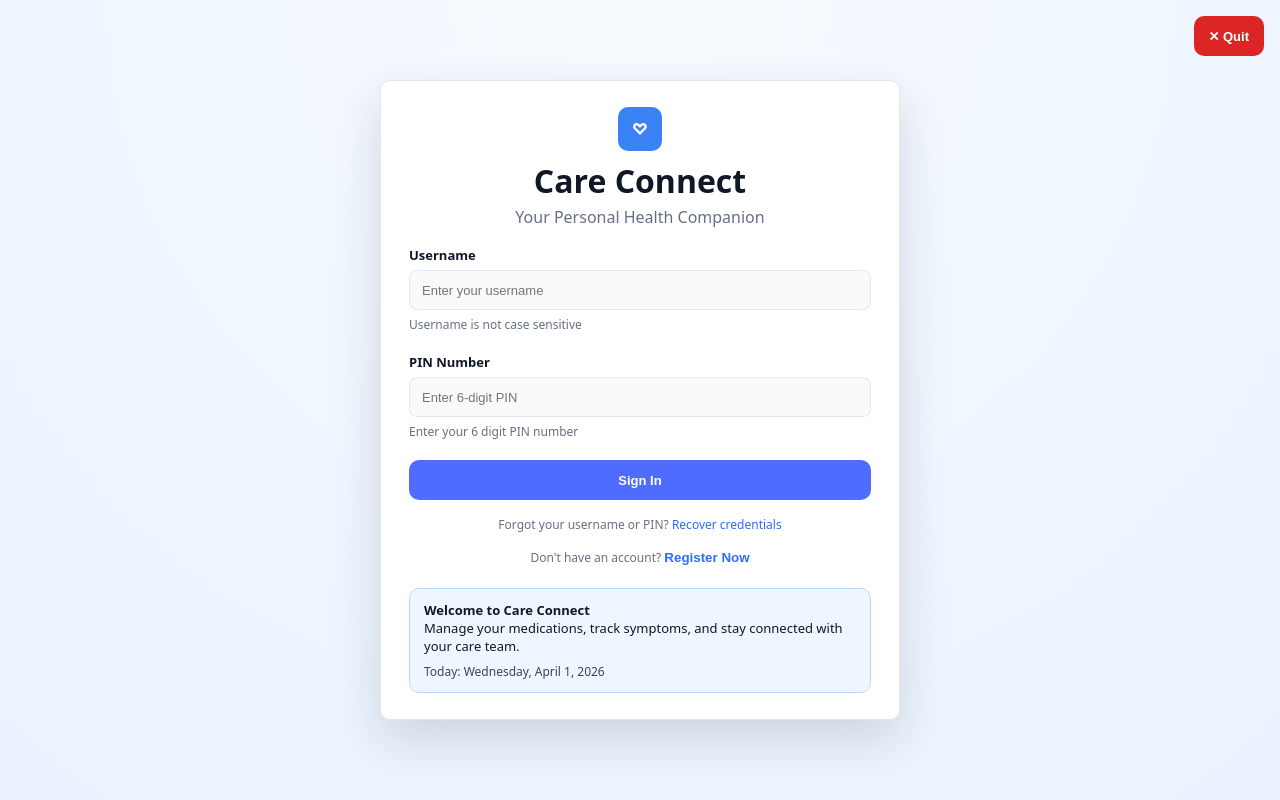
Login Screen - Comprehensive Tests › Validation - Error Cases › shows error for PIN more than 6 digits
Type "testuser" into the field with placeholder "Enter your username" at (640, 290), box left=409, top=270, right=871, bottom=310
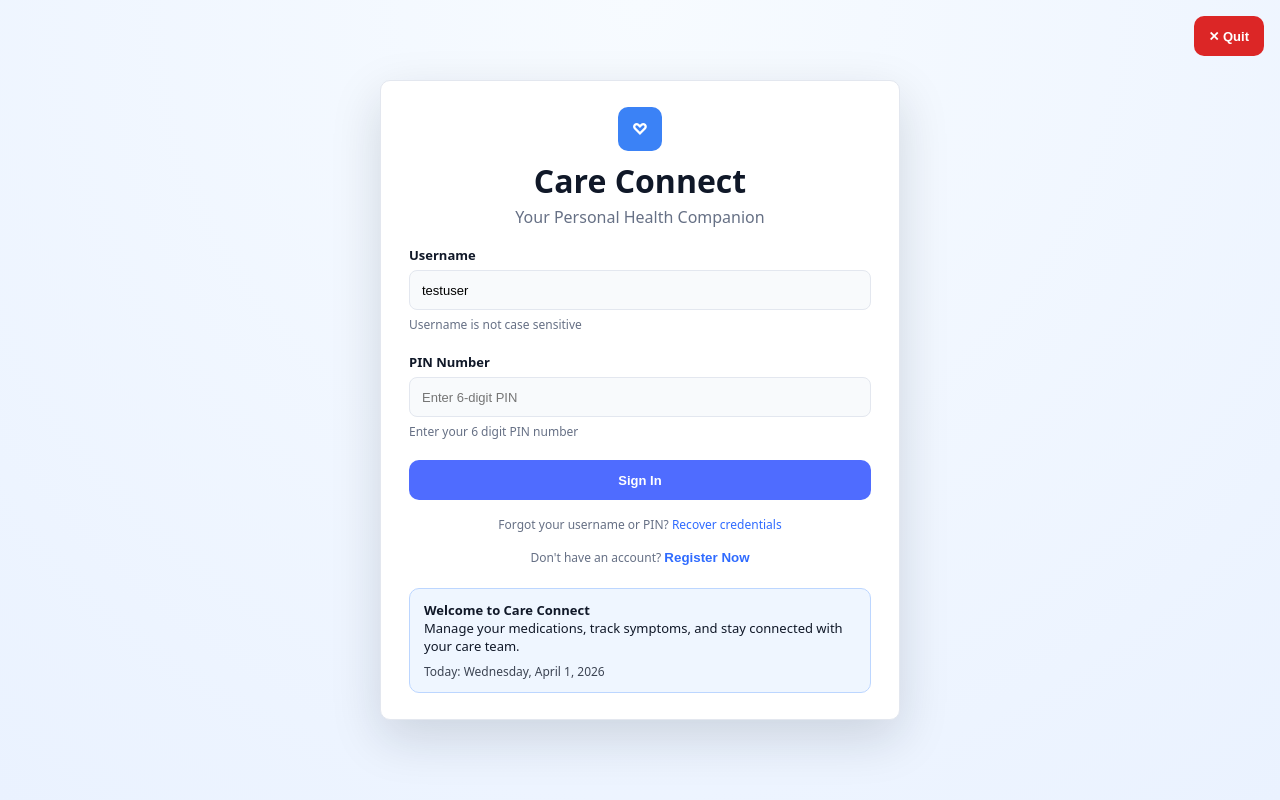
Type "1234567" into the password field with placeholder "Enter 6-digit PIN" at (640, 397), box left=409, top=377, right=871, bottom=417
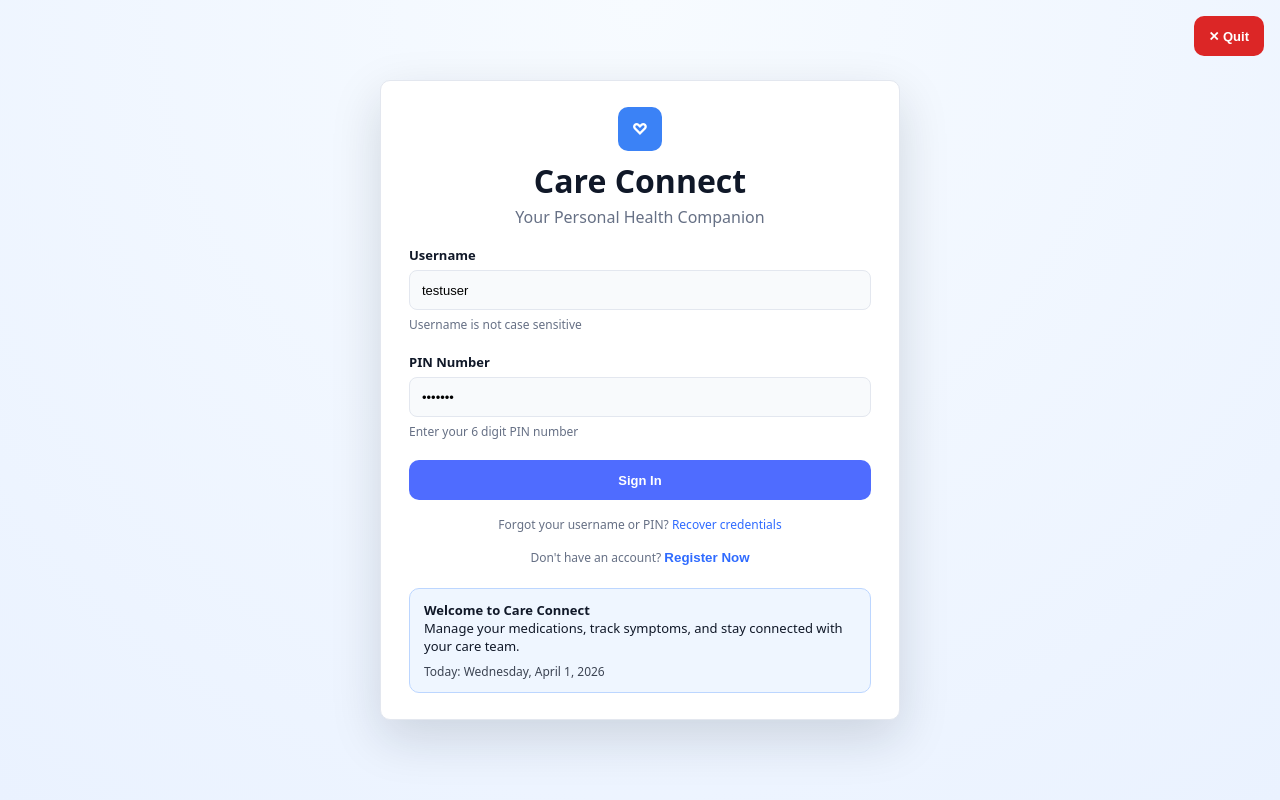
Click the button "Sign In" at (640, 480), box left=409, top=460, right=871, bottom=500
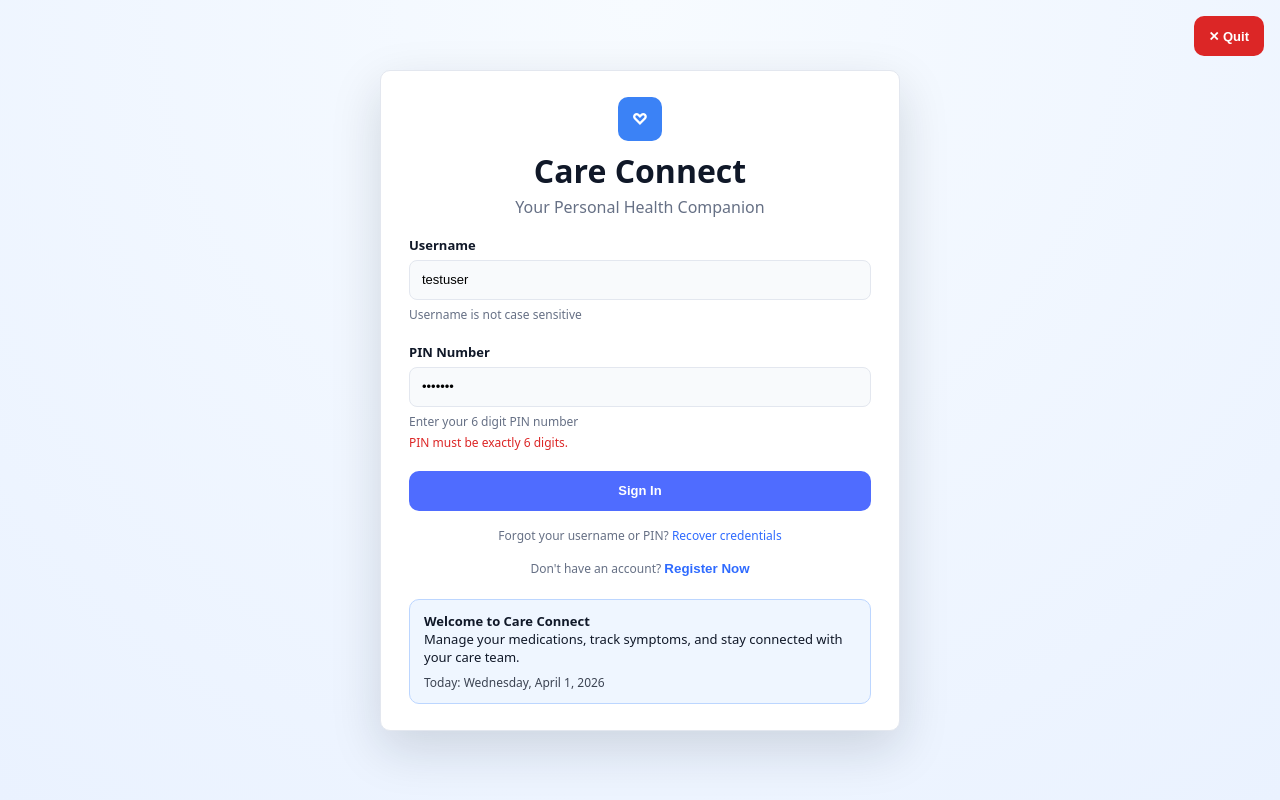
Expected: the text "PIN must be exactly 6 digits." is shown, left=409, top=434, right=568, bottom=450
